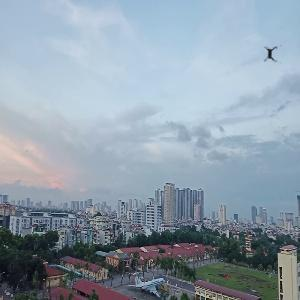drone: (252, 34, 294, 76)
